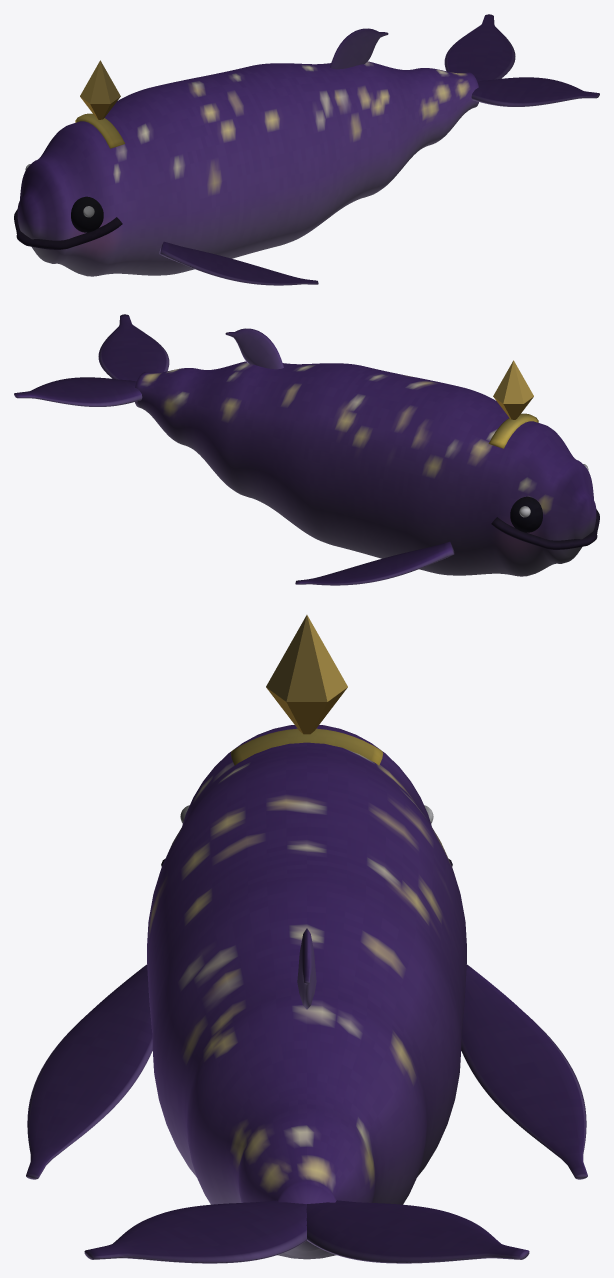
Rendered from Infinity_Whale.glb.
The picture shows the model from 3 angles, top to bottom: view 1: azimuth 30°, elevation 25°; view 2: azimuth 150°, elevation 25°; view 3: azimuth 270°, elevation 25°; orthographic projection. The views are drawn at different scales.
Parts seen in each view (by area): view 1: Infinity_Whale; view 2: Infinity_Whale; view 3: Infinity_Whale.
Part boxes in pixels (bbox=[...]): Infinity_Whale: bbox=[14, 14, 599, 285]; Infinity_Whale: bbox=[14, 314, 599, 585]; Infinity_Whale: bbox=[26, 615, 587, 1263].
Size of the model in its own units: 1.06 by 0.4325 by 0.4916.
